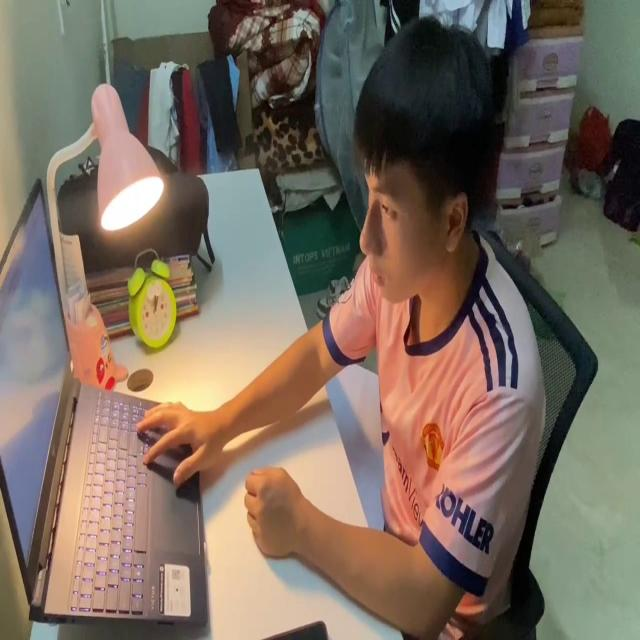book: (319, 357, 387, 533)
laptop: (0, 172, 211, 630)
phone: (261, 615, 327, 640)
student: (134, 17, 544, 640)
